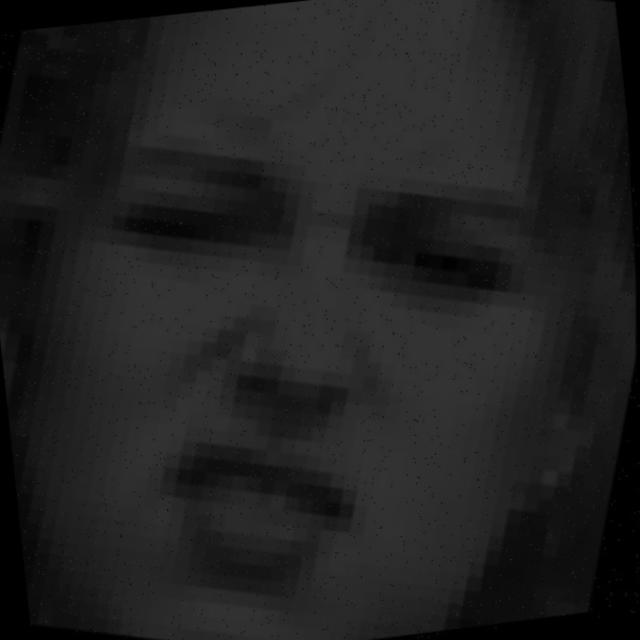Disgust: (69, 106, 585, 604)
